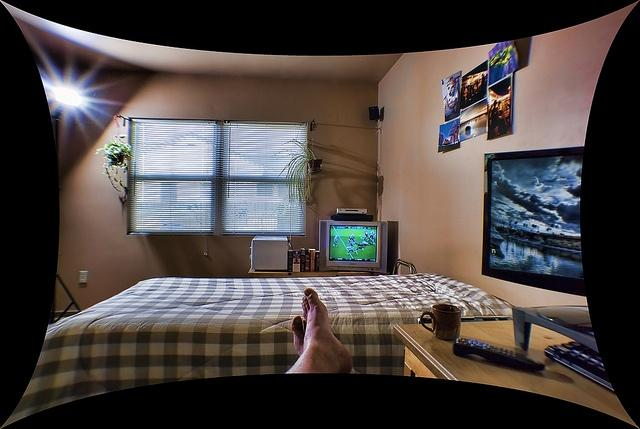AIO PC-Monitor-TV: (481, 144, 587, 299), (317, 218, 388, 273)
